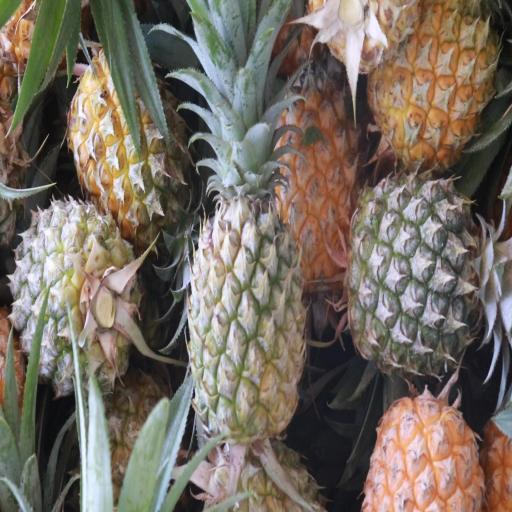------------------------------: (75, 30, 193, 229), (12, 198, 134, 390)
Pineapple - v8 v1: (376, 0, 501, 161), (280, 62, 366, 278), (361, 384, 482, 512)
